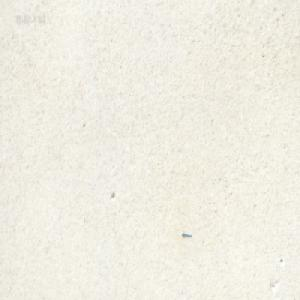Nail: (181, 230, 191, 238)
